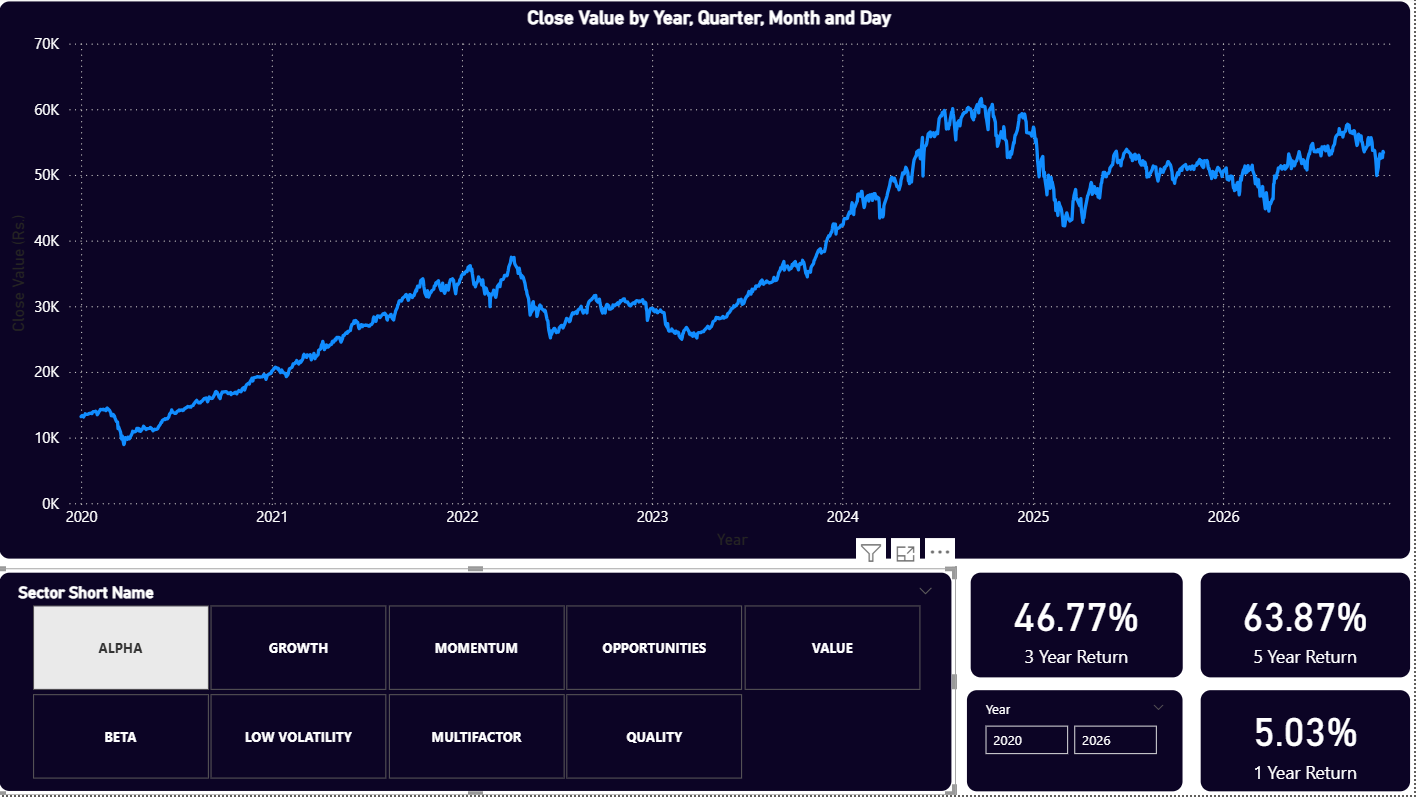

The dashboard page shown, as its layout file describes it:
{"tool":"powerbi","page":{"name":"Individual Report","canvas":[1280,720],"ordinal":1},"visuals":[{"type":"lineChart","title":" Close Value by Year, Quarter, Month and Day","fields":{"Category":["Date Table.Date.Variation.Date Hierarchy.Year","Date Table.Date.Variation.Date Hierarchy.Quarter","Date Table.Date.Variation.Date Hierarchy.Month","Date Table.Date.Variation.Date Hierarchy.Day"],"Y":["Max(Combine Data.Close)"]},"box":[0,0,1280.2,510.5],"z":0},{"type":"slicer","fields":{"Values":["Combine Data.Sector Short Name"]},"box":[0,515.1,866.3,204.7],"z":1000},{"type":"slicer","fields":{"Values":["Date Table.Year"]},"box":[872.1,620.9,202.3,98.8],"z":2000},{"type":"card","fields":{"Values":["Combine Data.3 Year Return"]},"box":[875.6,514.5,198.8,102.3],"z":3000},{"type":"card","fields":{"Values":["Combine Data.5 Year Return"]},"box":[1083.7,514.5,196.5,102.3],"z":4000},{"type":"card","fields":{"Values":["Combine Data.1 Year Return"]},"box":[1083.7,620.9,196.5,98.8],"z":5000}]}

Visuals, with their boxes in screenshot pixels (x1, y1, x2, y2), scaled from the page's 1280x720 canvas onto the 1416x797 screenshot:
" Close Value by Year, Quarter, Month and Day" lineChart: 0,0,1415,565
slicer - Combine Data.Sector Short Name: 0,570,958,796
slicer - Date Table.Year: 965,687,1189,796
card - Combine Data.3 Year Return: 969,570,1189,683
card - Combine Data.5 Year Return: 1199,570,1415,683
card - Combine Data.1 Year Return: 1199,687,1415,796
